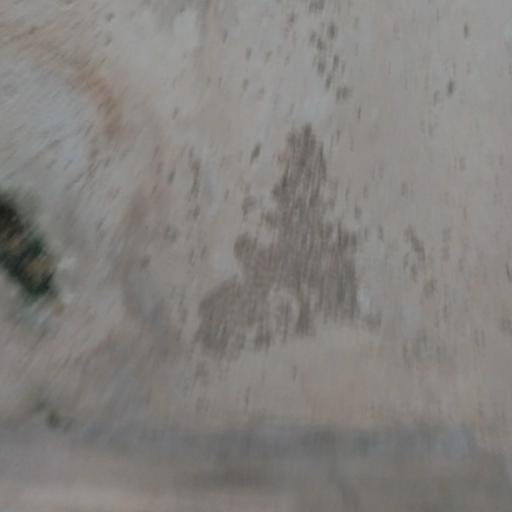peeling: (182, 102, 394, 383)
